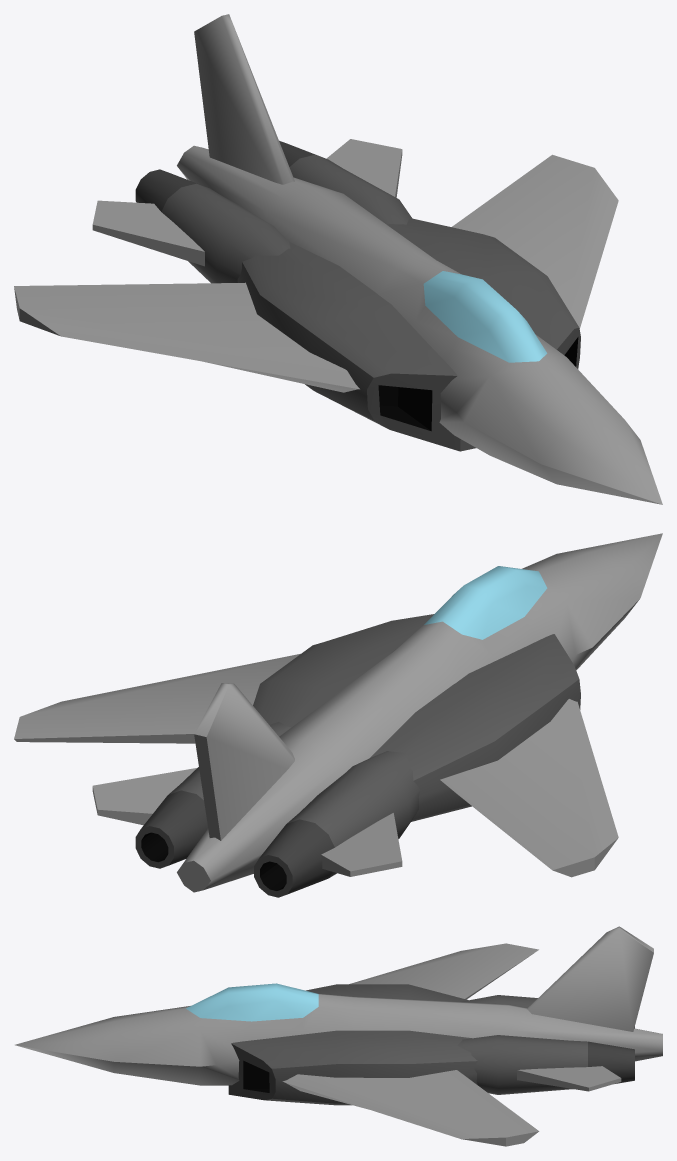
3 views of the same model, one above another, from view 1: azimuth 30°, elevation 25°; view 2: azimuth 150°, elevation 25°; view 3: azimuth 270°, elevation 25° (orthographic). The views are drawn at different scales.
Parts seen in each view (by area): view 1: Cylinder.508, Cube.453, Cube.455, Cylinder.509, Cube.454, Cube.456; view 2: Cylinder.508, Cube.453, Cube.455, Cylinder.509, Cube.454, Cube.456; view 3: Cylinder.508, Cube.453, Cube.455, Cube.454, Cylinder.509, Cube.456.
Boxes of the visible parts, box(x1,y1,x2,y2) form: Cylinder.508: box(177, 145, 662, 504); Cube.453: box(14, 154, 618, 392); Cube.455: box(237, 218, 580, 451); Cylinder.509: box(135, 140, 412, 283); Cube.454: box(194, 14, 294, 184); Cube.456: box(92, 139, 402, 266); Cylinder.508: box(177, 533, 662, 892); Cube.453: box(14, 653, 618, 877); Cube.455: box(253, 614, 580, 821); Cylinder.509: box(135, 722, 419, 897); Cube.454: box(194, 683, 294, 840); Cube.456: box(92, 768, 402, 876); Cylinder.508: box(15, 983, 662, 1085); Cube.453: box(282, 943, 539, 1146); Cube.455: box(228, 984, 477, 1105); Cube.454: box(527, 926, 653, 1031); Cylinder.509: box(457, 995, 634, 1094); Cube.456: box(517, 1066, 621, 1091).
Bounding box in the file's own units: 1523 × 572 × 2151.
